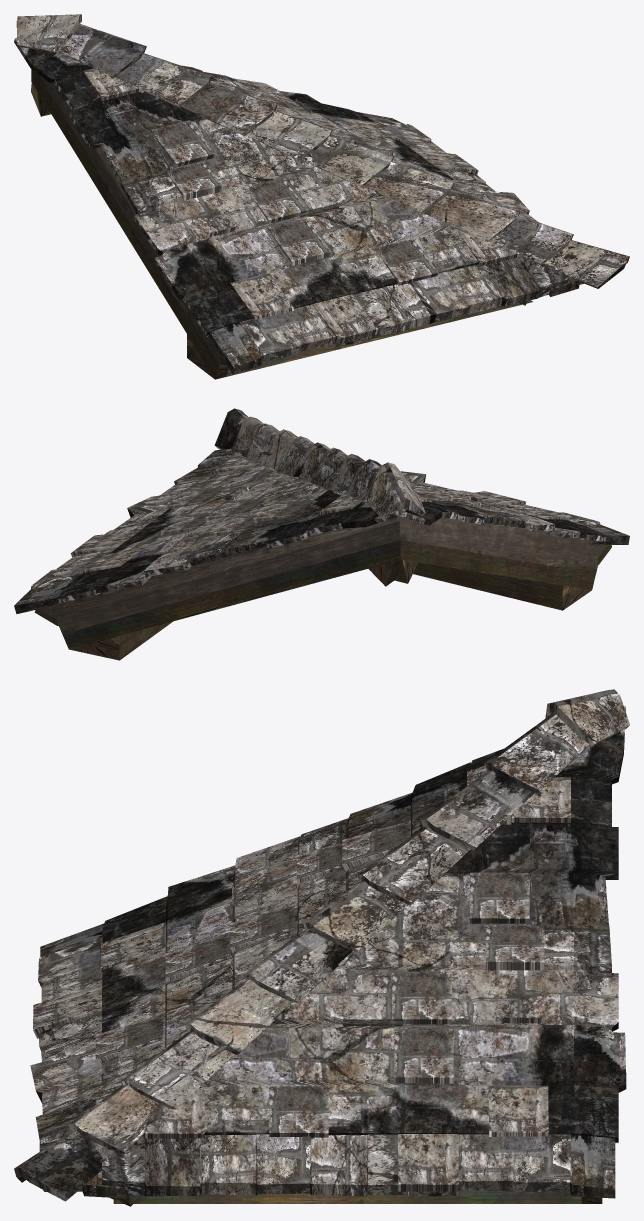
The picture shows the model from 3 angles, top to bottom: view 1: azimuth 30°, elevation 25°; view 2: azimuth 150°, elevation 25°; view 3: azimuth 270°, elevation 25°; orthographic projection. The views are drawn at different scales.
Visible parts, largest first — view 1: SM_T3_Roof_Large_Hip_Shallow_LOD0; view 2: SM_T3_Roof_Large_Hip_Shallow_LOD0; view 3: SM_T3_Roof_Large_Hip_Shallow_LOD0.
Boxes of the visible parts, left/top/right/bottom form: SM_T3_Roof_Large_Hip_Shallow_LOD0: left=14, top=14, right=629, bottom=379; SM_T3_Roof_Large_Hip_Shallow_LOD0: left=14, top=408, right=629, bottom=660; SM_T3_Roof_Large_Hip_Shallow_LOD0: left=14, top=689, right=629, bottom=1206.
Bounding box in the file's own units: 3.79 × 2.14 × 3.79.
3 materials, 3 textured.
